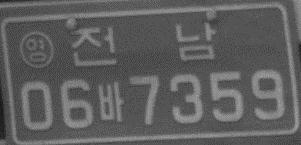0: (20, 79, 53, 131)
3: (168, 73, 204, 124)
5: (208, 71, 244, 123)
6: (58, 78, 93, 129)
7: (127, 74, 161, 126)
9: (250, 69, 286, 122)
바: (96, 82, 125, 123)
영: (19, 30, 55, 70)
전남_D: (69, 22, 216, 67)
